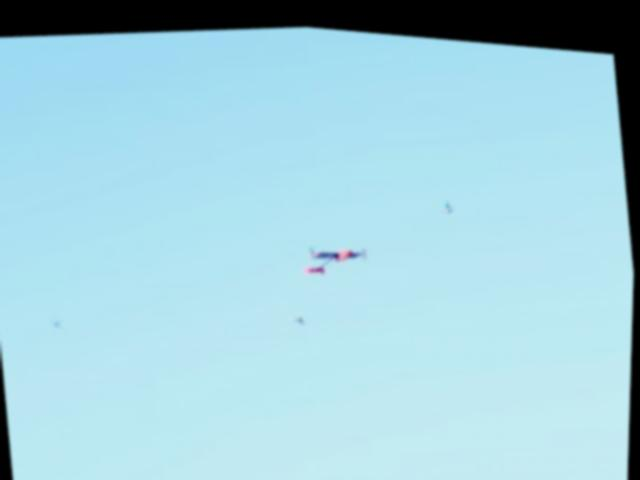uav: (294, 222, 378, 283)
